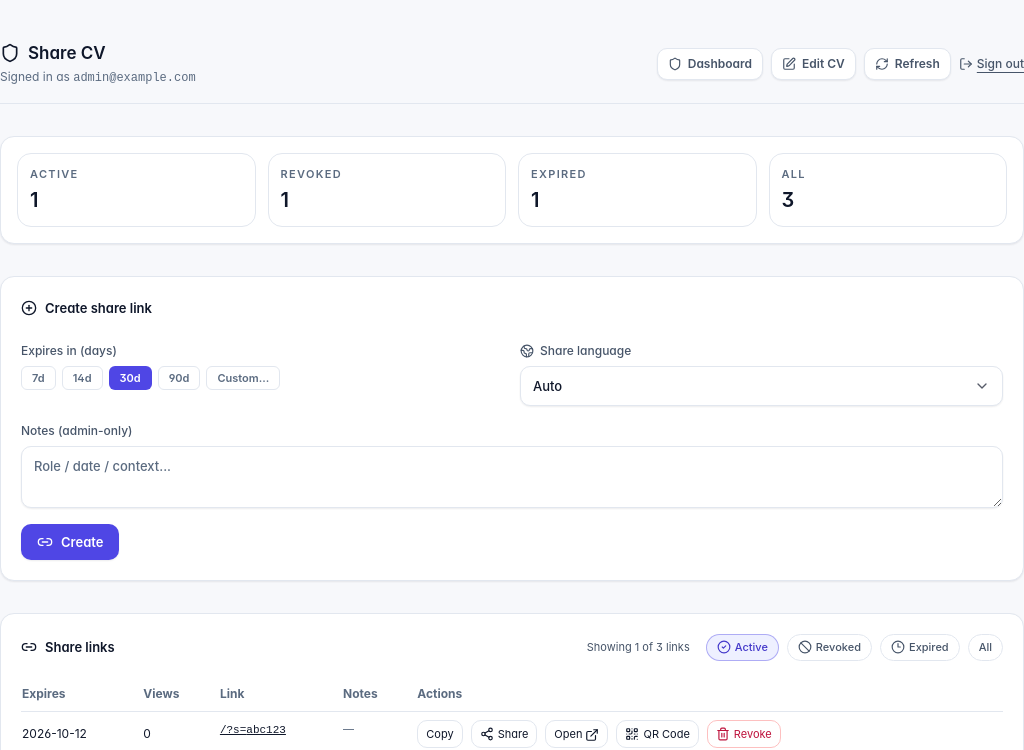
AdminShareRoute › clicking a preset chip hides the custom expiry input
Click the button "Custom…" at (243, 378), box [206,366,280,390]
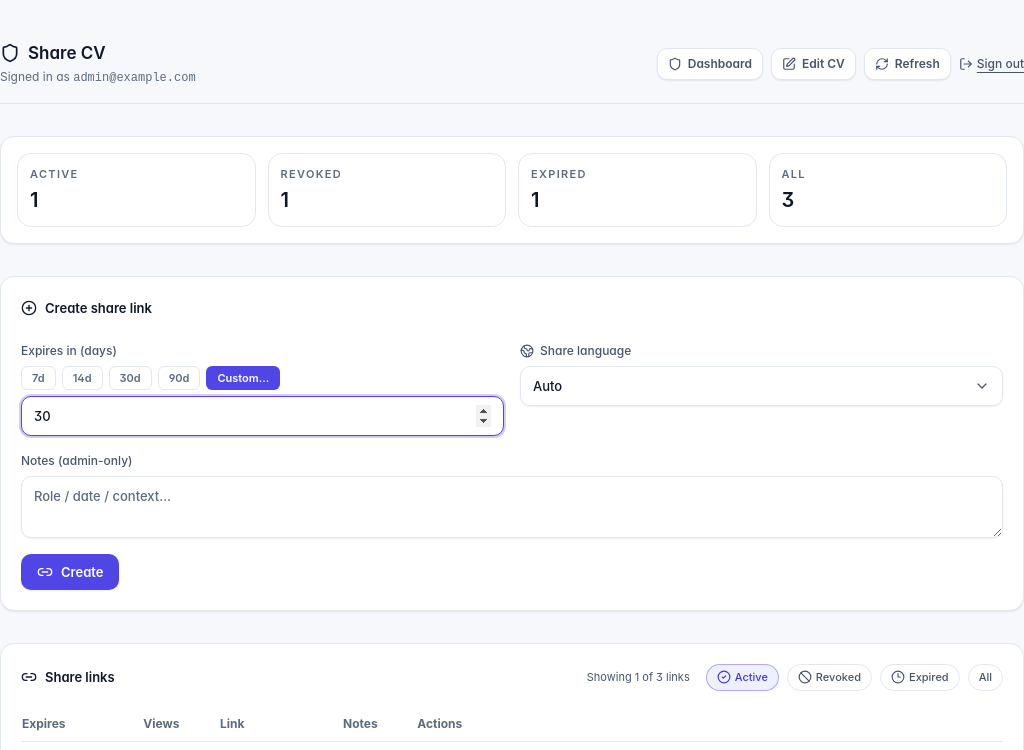
Check: the number field named "expiresInDays" is shown, box [21,396,504,436]
Click the button "30d" at (130, 378), box [108,366,152,390]
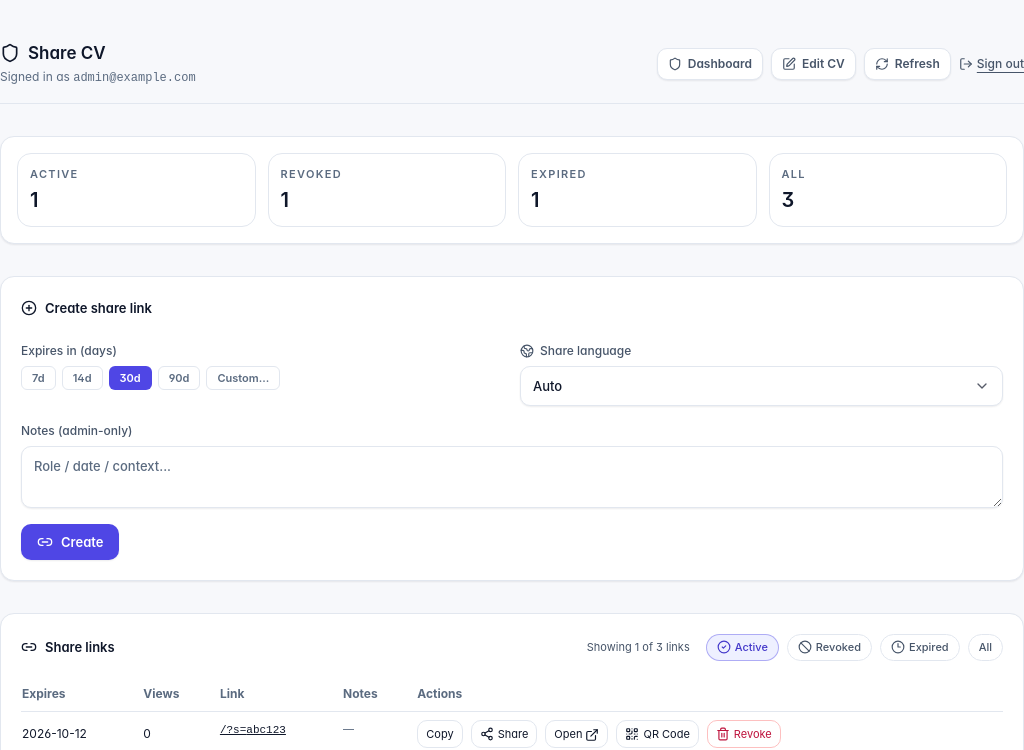
Check: the number field named "expiresInDays" is gone
